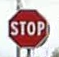stop: (7, 7, 48, 48)
